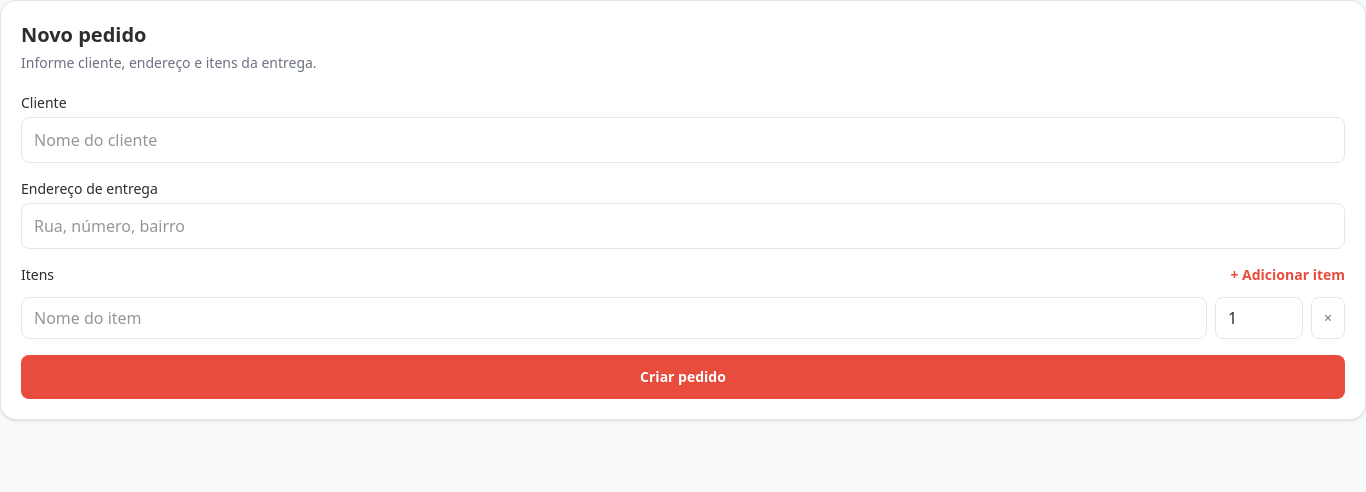
Test: PedidoForm › adiciona e remove linhas de item
expect the number of fields with placeholder "Nome do item" is 1: met, box 21,297 -> 1207,339
Click the button "+ Adicionar item" at (1288, 275), box 1230,265 -> 1345,285
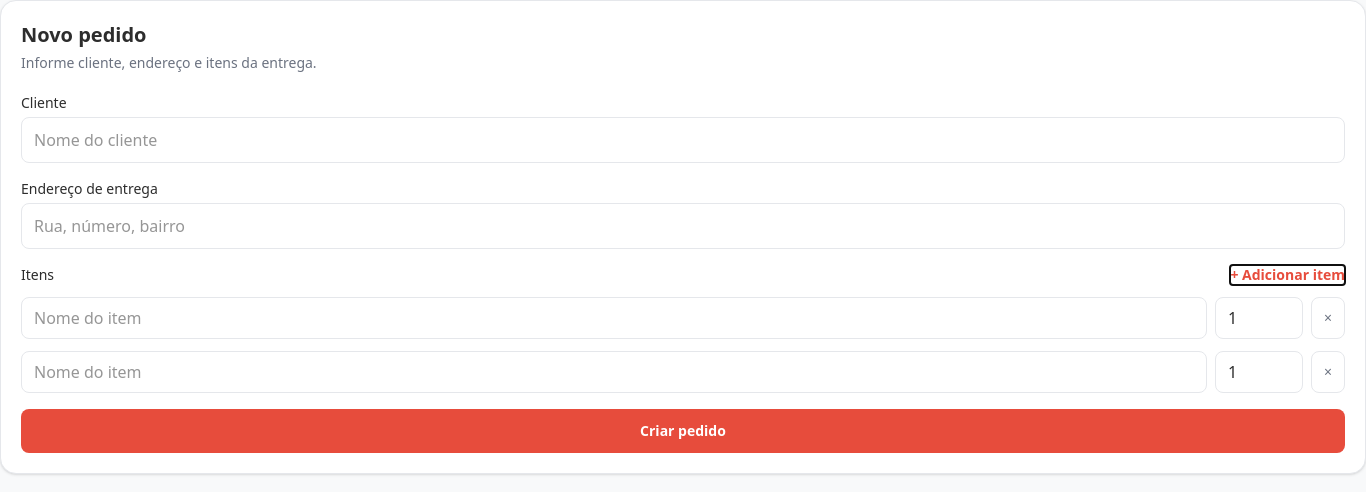
expect the number of fields with placeholder "Nome do item" is 2: met, box 21,297 -> 1207,339; 21,351 -> 1207,393
Click the button named "Remover item" at (1328, 318), box 1311,297 -> 1345,339
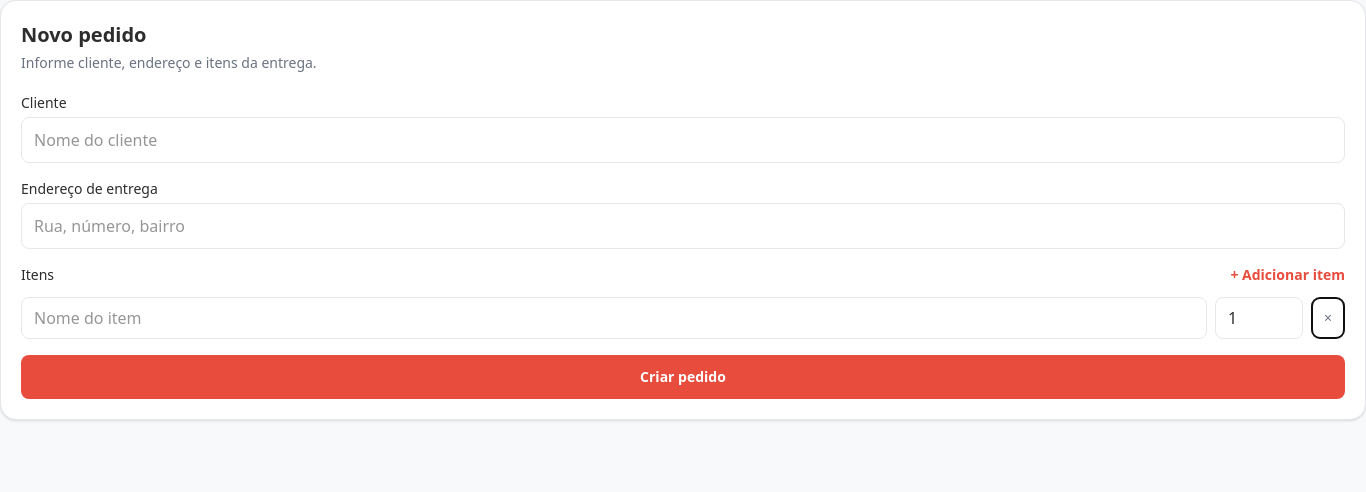
expect the number of fields with placeholder "Nome do item" is 1: met, box 21,297 -> 1207,339
